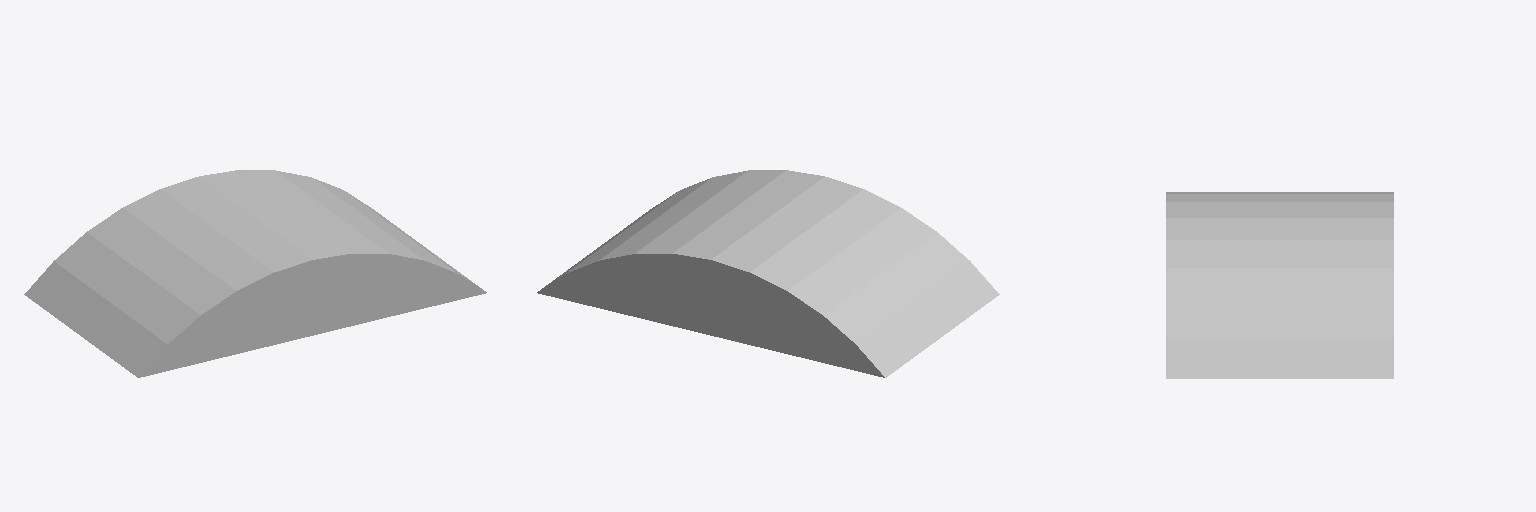
File: arch_01.obj
3 renders of one model, left to right at view 1: azimuth 30°, elevation 25°; view 2: azimuth 150°, elevation 25°; view 3: azimuth 270°, elevation 25°, orthographic.
Visible parts, largest first — view 1: Flat_Arch_Sphere.001; view 2: Flat_Arch_Sphere.001; view 3: Flat_Arch_Sphere.001.
Boxes of the visible parts, <box> form: Flat_Arch_Sphere.001: <box>24,170,486,377</box>; Flat_Arch_Sphere.001: <box>537,170,999,377</box>; Flat_Arch_Sphere.001: <box>1166,192,1393,378</box>.
Bounding box in the file's own units: 1.41 × 0.2929 × 0.8.